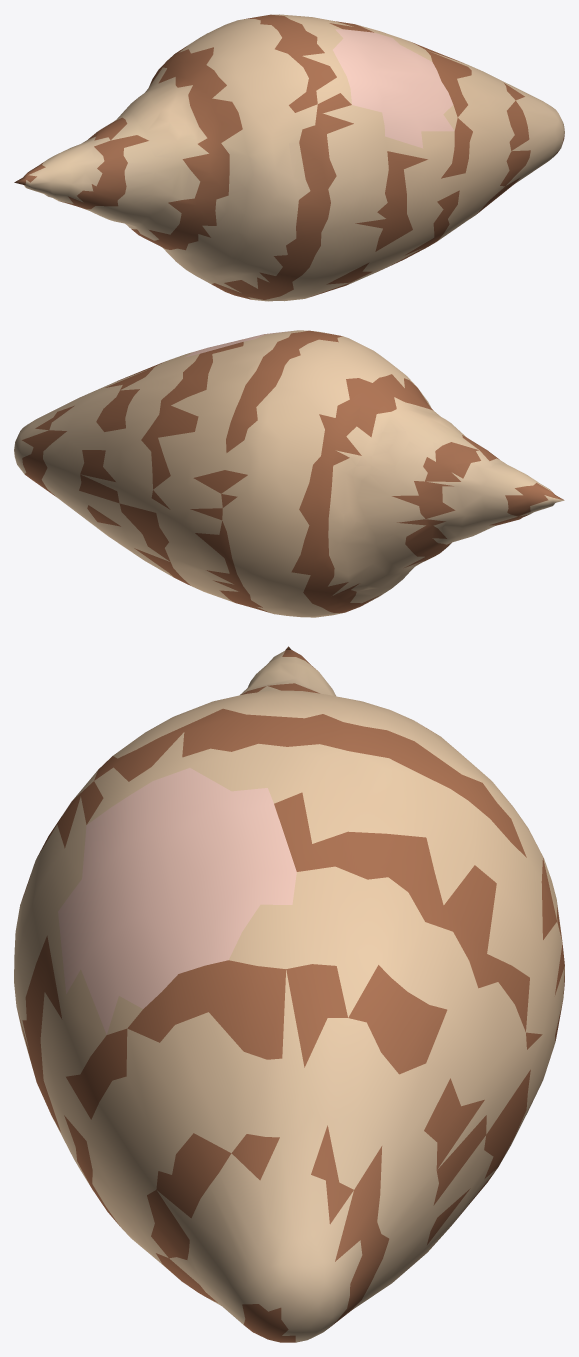
Rendered from shore_whelk_lod1.glb.
3 views of the same model, one above another, from view 1: azimuth 30°, elevation 25°; view 2: azimuth 150°, elevation 25°; view 3: azimuth 270°, elevation 25° (orthographic). The views are drawn at different scales.
Parts seen in each view (by area): view 1: shore_whelk.001; view 2: shore_whelk.001; view 3: shore_whelk.001.
Part boxes in pixels (<box>): shore_whelk.001: <box>14,14,564,301</box>; shore_whelk.001: <box>14,330,564,617</box>; shore_whelk.001: <box>14,646,564,1342</box>.
Size of the model in its own units: 14.07 by 6 by 6.39.
